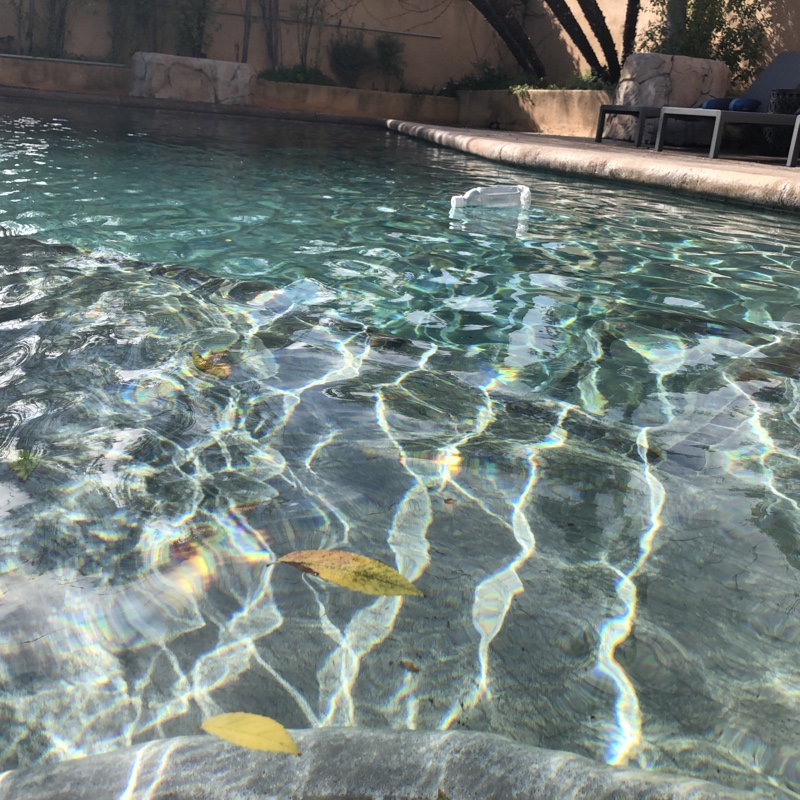Plastic Bottle: (447, 178, 534, 218)
